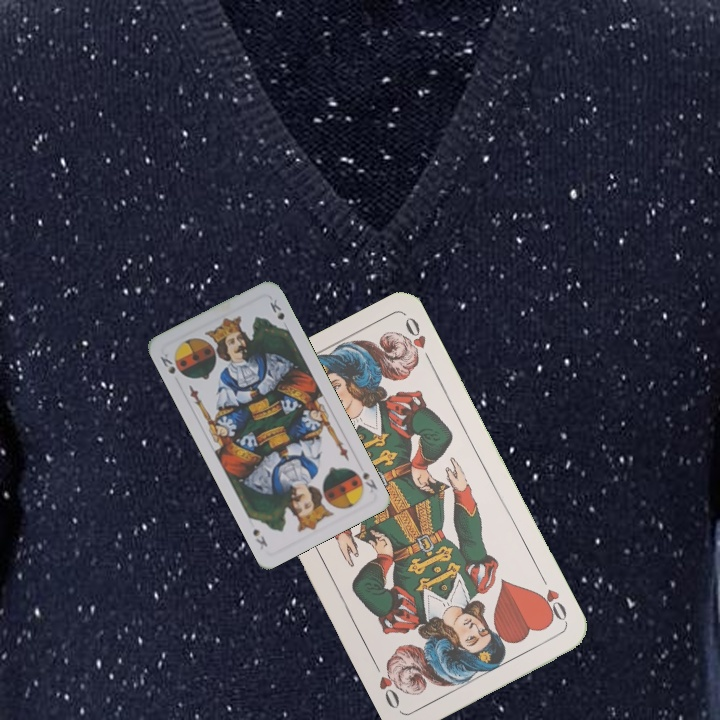HO: (533, 571, 570, 625)
SK: (156, 348, 178, 377), (358, 467, 380, 495)
